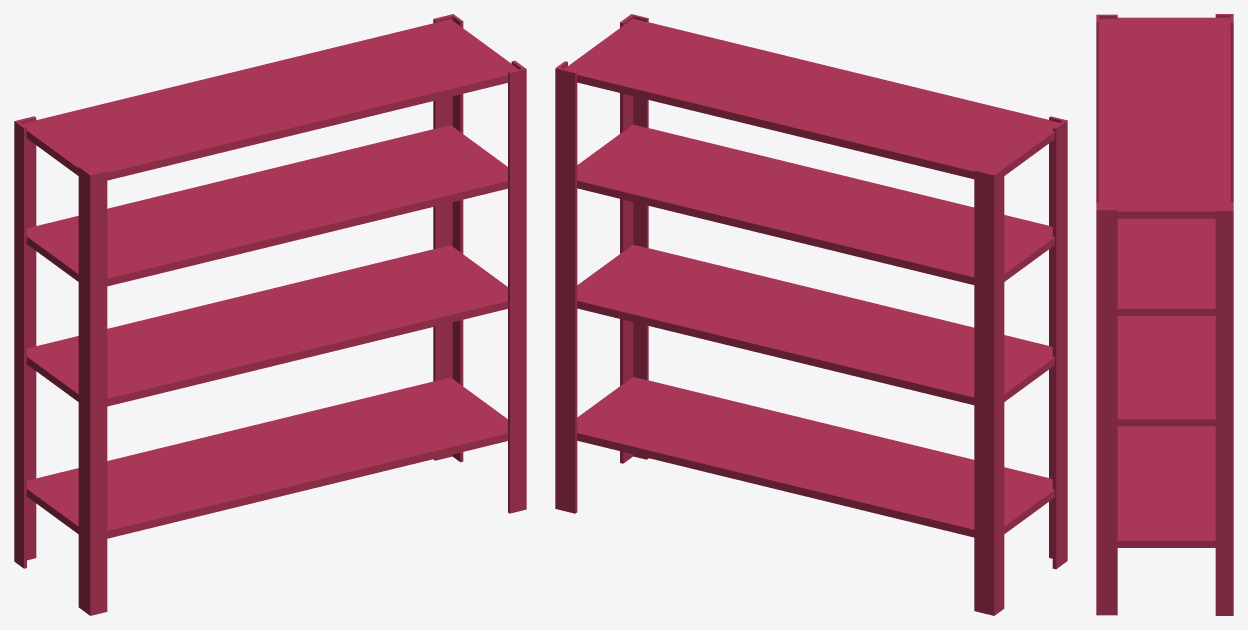
The model's file is Shelf1.fbx.
The picture shows the model from 3 angles, left to right: view 1: azimuth 30°, elevation 25°; view 2: azimuth 150°, elevation 25°; view 3: azimuth 270°, elevation 25°; orthographic projection. The views are drawn at different scales.
Visible parts, largest first — view 1: Cube.003, Cube.002, Cube.004, Cube.001, Cube.006, Cube.007, Cube, Cube.005; view 2: Cube.003, Cube.002, Cube.001, Cube.004, Cube.007, Cube.005, Cube.006, Cube; view 3: Cube.003, Cube.001, Cube.002, Cube.004, Cube, Cube.005, Cube.007, Cube.006.
Part boxes in pixels (x1,y1,x2,y2): Cube.003: [22, 19, 518, 180]; Cube.002: [26, 245, 508, 406]; Cube.004: [26, 125, 508, 286]; Cube.001: [26, 377, 508, 538]; Cube.006: [78, 166, 107, 615]; Cube.007: [14, 116, 36, 568]; Cube: [508, 60, 526, 513]; Cube.005: [433, 14, 463, 462]; Cube.003: [565, 18, 1059, 179]; Cube.002: [577, 244, 1054, 405]; Cube.001: [577, 377, 1054, 537]; Cube.004: [577, 124, 1054, 284]; Cube.007: [974, 167, 1004, 615]; Cube.005: [555, 61, 577, 513]; Cube.006: [1049, 116, 1067, 569]; Cube: [620, 14, 648, 463]; Cube.003: [1098, 17, 1230, 218]; Cube.001: [1117, 426, 1215, 547]; Cube.002: [1117, 316, 1215, 426]; Cube.004: [1117, 218, 1215, 315]; Cube: [1096, 202, 1117, 615]; Cube.005: [1215, 202, 1233, 615]; Cube.007: [1215, 14, 1233, 201]; Cube.006: [1096, 14, 1117, 202].
Size of the model in its own units: 421 by 403 by 124.
